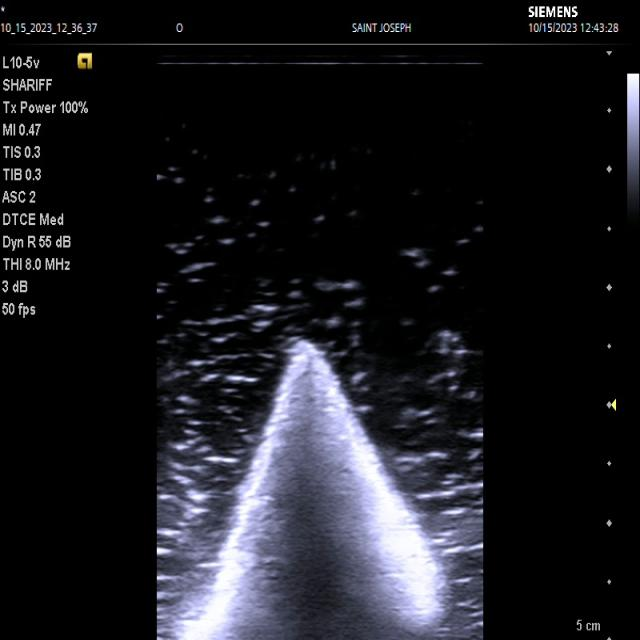tissue: (182, 341, 450, 640)
